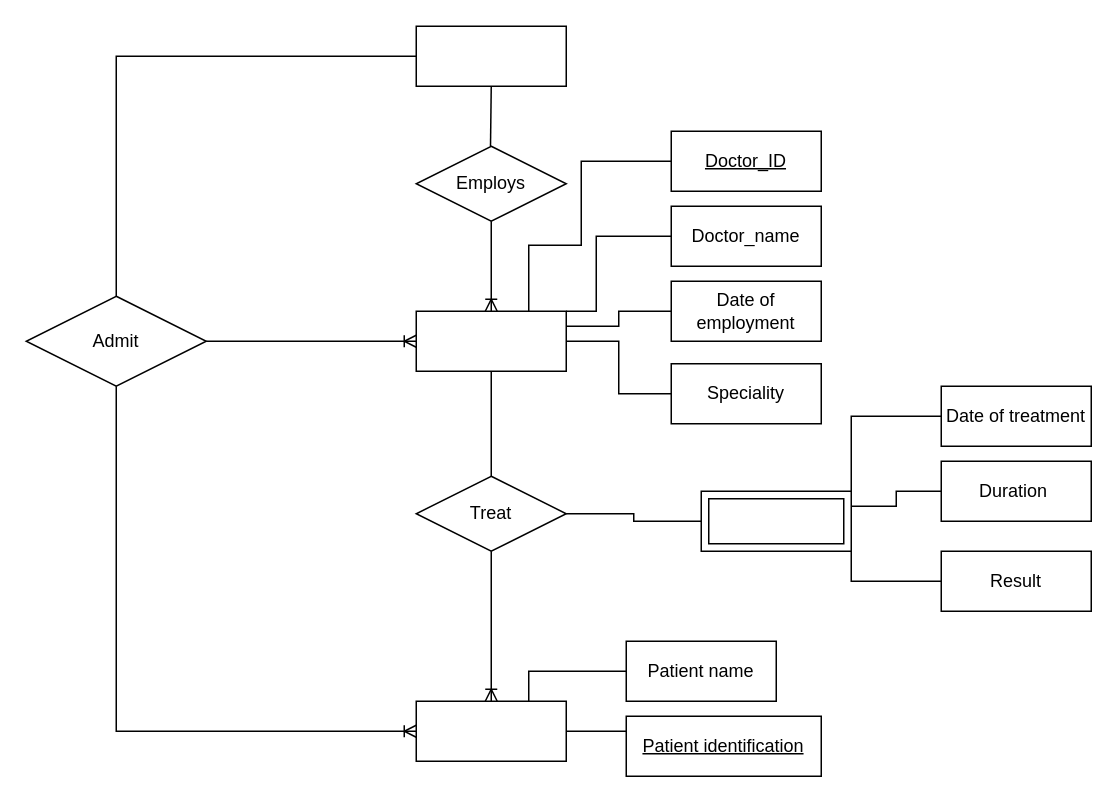
Image size: 1118x803. Some labels were removed from this diagram. Here are the shapes that lost their labels. From the top down, the centre of each, then its label:
At pixel 490 55: "Hospital".
At pixel 490 340: "Doctor".
At pixel 775 520: "Treatment".
At pixel 490 730: "Patient".
